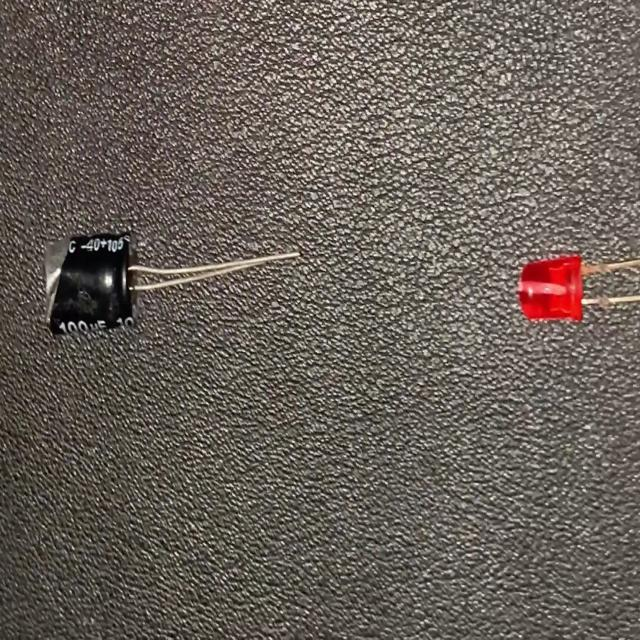LED: (516, 254, 640, 327)
capacitor: (41, 228, 300, 340)
cracked: (44, 232, 74, 331)
rust: (578, 260, 610, 284)
